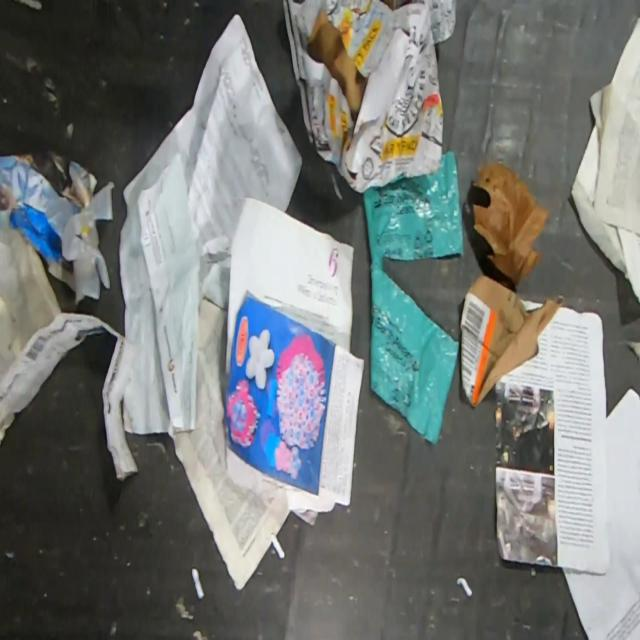cardboard: (282, 0, 458, 195), (0, 150, 98, 294), (461, 274, 564, 407)
soft_plastic: (363, 152, 464, 447), (61, 181, 116, 303)
